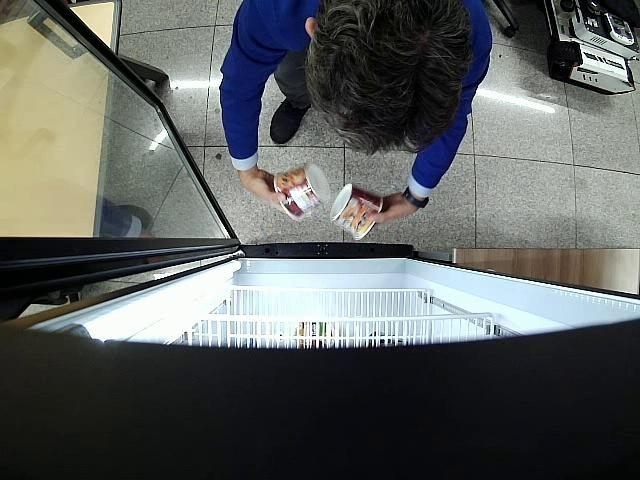05_nuguri_L: (274, 162, 331, 222), (330, 184, 384, 240)
